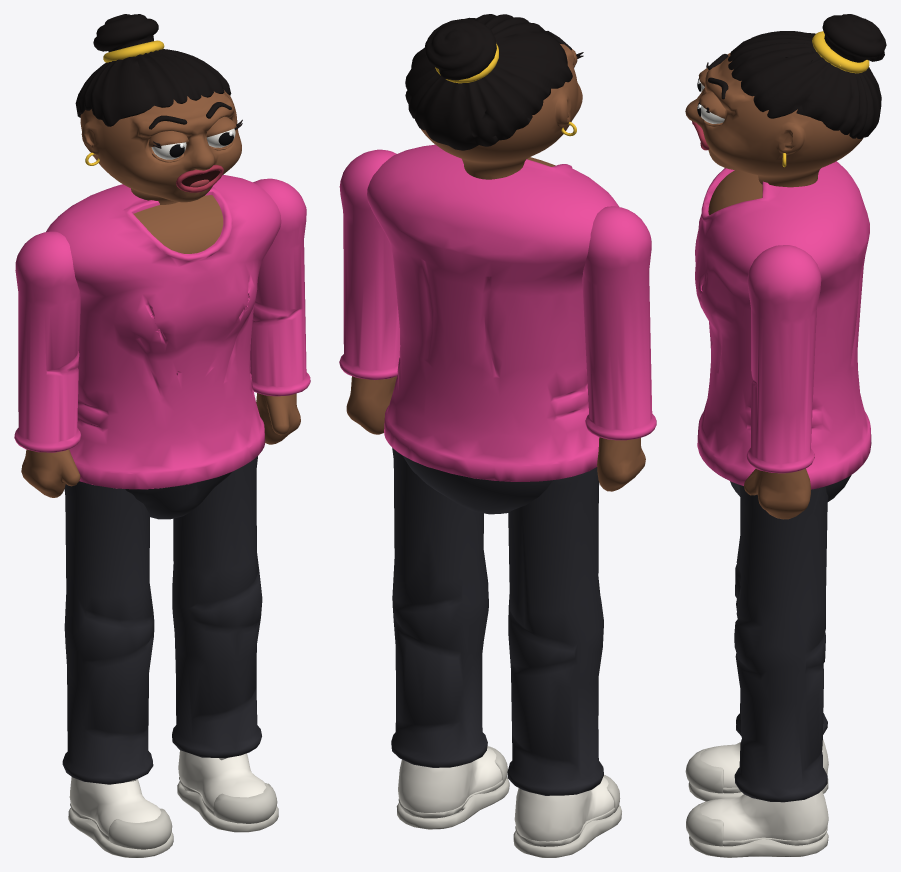
Rendered from mama.glb.
3 views of the same model, side by side, from view 1: azimuth 30°, elevation 25°; view 2: azimuth 150°, elevation 25°; view 3: azimuth 270°, elevation 25° (orthographic). The views are drawn at different scales.
Parts seen in each view (by area): view 1: Body_Mesh, LegR_Mesh, LegL_Mesh, Head_Mesh, ArmR_Mesh, ArmL_Mesh, Mouth; view 2: Body_Mesh, LegR_Mesh, LegL_Mesh, Head_Mesh, ArmR_Mesh, ArmL_Mesh; view 3: Body_Mesh, LegL_Mesh, Head_Mesh, ArmL_Mesh, LegR_Mesh.
Boxes of the visible parts, box(x1,y1,x2,y2) form: Body_Mesh: box(46, 175, 281, 519); LegR_Mesh: box(62, 481, 173, 857); LegL_Mesh: box(172, 456, 278, 832); Head_Mesh: box(75, 14, 242, 204); ArmR_Mesh: box(14, 231, 81, 497); ArmL_Mesh: box(250, 178, 310, 444); Mouth: box(176, 165, 223, 192); Body_Mesh: box(367, 144, 619, 514); LegR_Mesh: box(507, 467, 621, 857); LegL_Mesh: box(391, 447, 509, 829); Head_Mesh: box(405, 14, 583, 179); ArmR_Mesh: box(582, 206, 656, 491); ArmL_Mesh: box(339, 149, 400, 434); Body_Mesh: box(695, 161, 871, 501); LegL_Mesh: box(686, 485, 828, 857); Head_Mesh: box(685, 14, 886, 187); ArmL_Mesh: box(744, 245, 821, 519); LegR_Mesh: box(685, 497, 828, 801).
Bounding box in the file's own units: 0.6783 × 1.74 × 0.3973.
